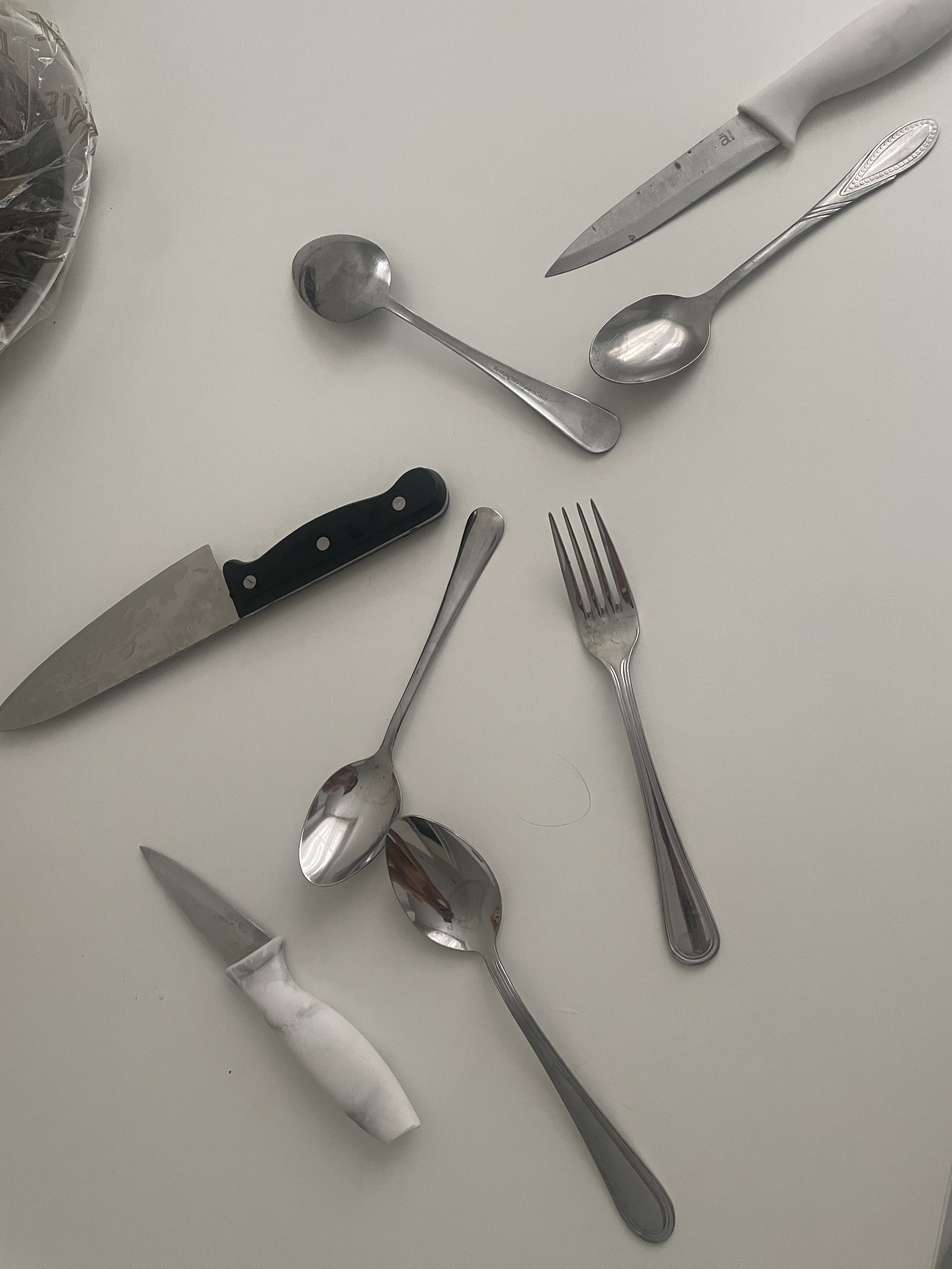knife: (0, 468, 448, 730), (546, 0, 952, 277), (141, 847, 420, 1142)
spoon: (385, 816, 675, 1243), (589, 119, 939, 384), (299, 507, 504, 886), (292, 234, 621, 453)
